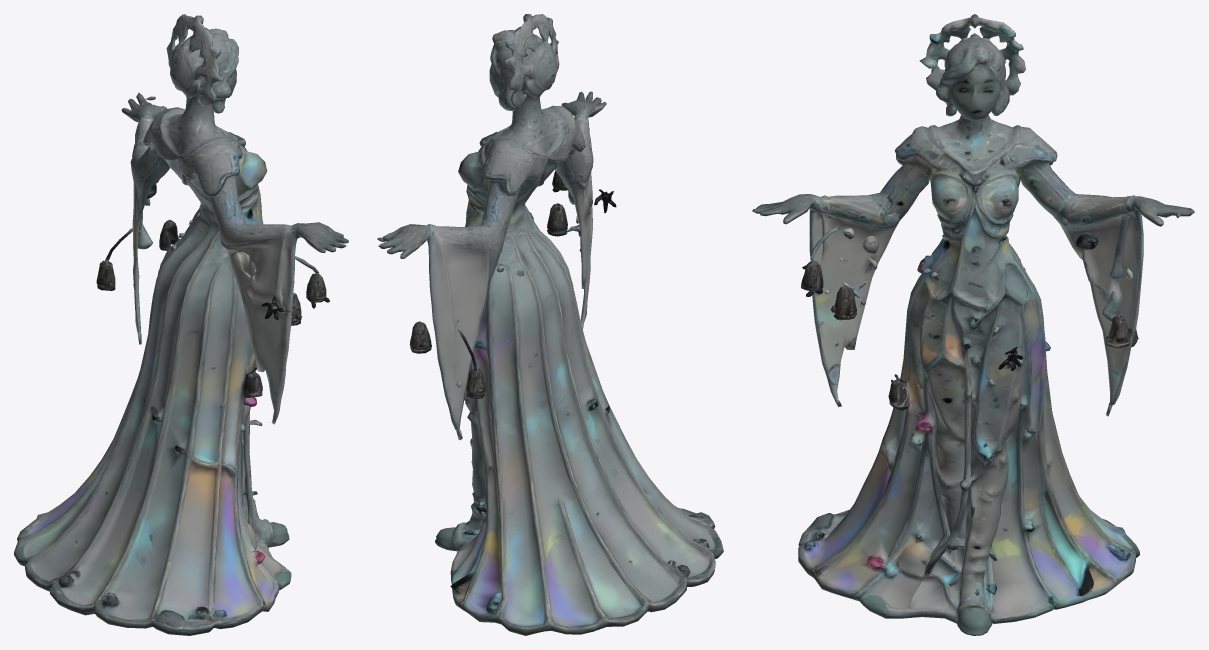
3 views of the same model, side by side, from view 1: azimuth 30°, elevation 25°; view 2: azimuth 150°, elevation 25°; view 3: azimuth 270°, elevation 25° (orthographic). The views are drawn at different scales.
Parts seen in each view (by area): view 1: tripo_node_2fac05c2-4420-4d3d-a3d9-20dd8b2c0709; view 2: tripo_node_2fac05c2-4420-4d3d-a3d9-20dd8b2c0709; view 3: tripo_node_2fac05c2-4420-4d3d-a3d9-20dd8b2c0709.
Part boxes in pixels (<box>): tripo_node_2fac05c2-4420-4d3d-a3d9-20dd8b2c0709: <box>14,14,348,635</box>; tripo_node_2fac05c2-4420-4d3d-a3d9-20dd8b2c0709: <box>377,14,723,635</box>; tripo_node_2fac05c2-4420-4d3d-a3d9-20dd8b2c0709: <box>752,14,1194,635</box>.
Bounding box in the file's own units: 0.4795 × 1 × 0.6928.
1 material, 1 textured.
